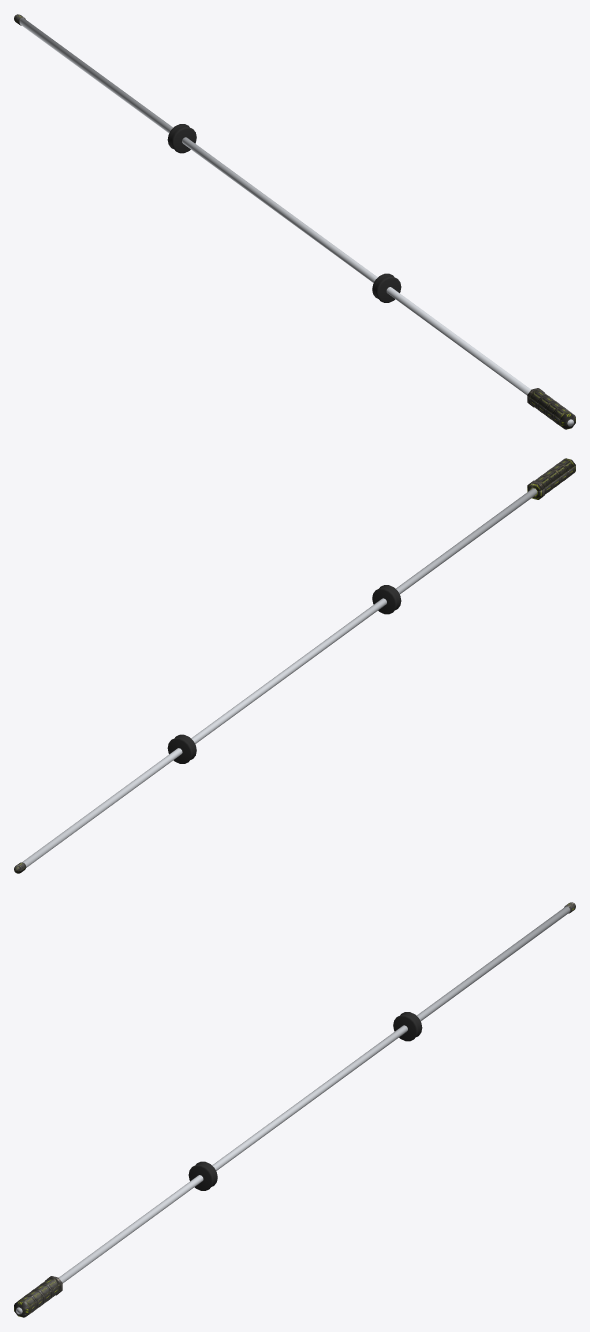
The model's file is fuzeball_rod_3man.glb.
3 renders of one model, top to bottom at view 1: azimuth 30°, elevation 25°; view 2: azimuth 150°, elevation 25°; view 3: azimuth 330°, elevation 25°, orthographic.
Visible parts, largest first — view 1: rod3_bar.001, rod3_handle.alien, CylinderL.004, CylinderR.004; view 2: rod3_bar.001, rod3_handle.alien, CylinderL.004, CylinderR.004; view 3: rod3_bar.001, rod3_handle.alien, CylinderL.004, CylinderR.004.
Part boxes in pixels (bbox=[...]): rod3_bar.001: bbox=[19, 18, 573, 426]; rod3_handle.alien: bbox=[527, 388, 575, 429]; CylinderL.004: bbox=[372, 273, 401, 302]; CylinderR.004: bbox=[167, 124, 196, 153]; rod3_bar.001: bbox=[22, 488, 537, 867]; rod3_handle.alien: bbox=[527, 458, 575, 499]; CylinderL.004: bbox=[372, 585, 401, 614]; CylinderR.004: bbox=[167, 734, 196, 763]; rod3_bar.001: bbox=[16, 906, 570, 1314]; rod3_handle.alien: bbox=[14, 1276, 62, 1317]; CylinderL.004: bbox=[188, 1161, 217, 1190]; CylinderR.004: bbox=[393, 1012, 422, 1041].
Bounding box in the file's own units: 3.02 × 3.02 × 118.
4 materials, 1 textured.
